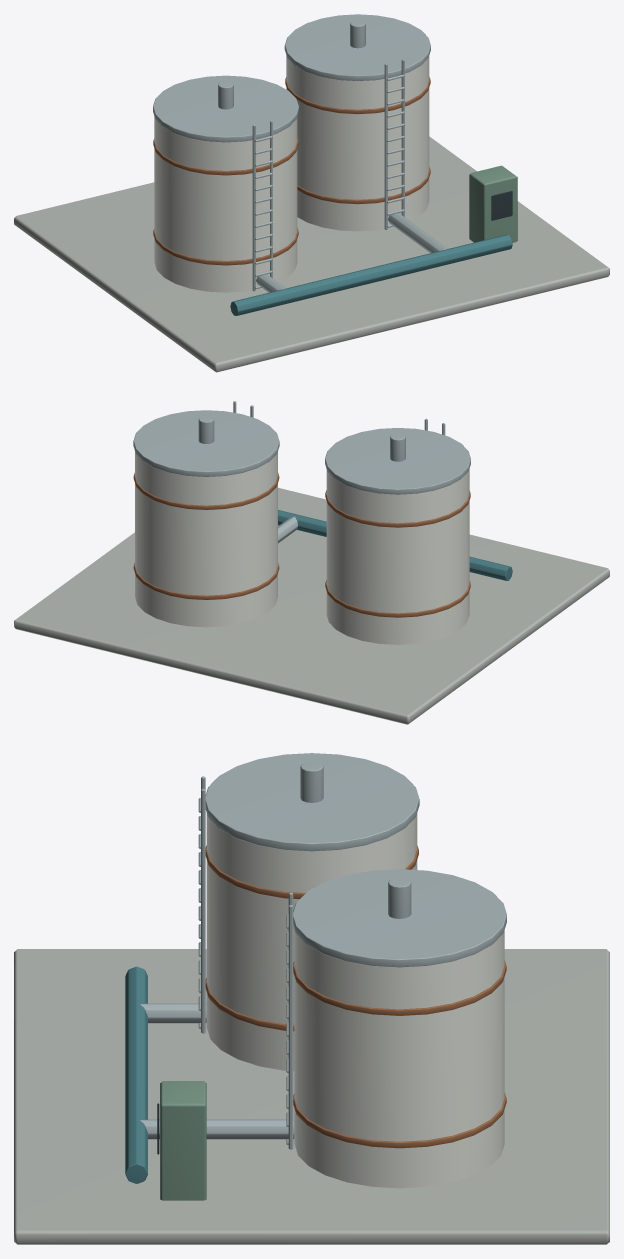
Rendered from PortUtilities.glb.
The picture shows the model from 3 angles, top to bottom: view 1: azimuth 30°, elevation 25°; view 2: azimuth 150°, elevation 25°; view 3: azimuth 270°, elevation 25°; orthographic projection. The views are drawn at different scales.
Parts seen in each view (by area): view 1: Utility plinth, Vertical water tank, Vertical water tank.001, Tank roof.001, Tank roof, Service manifold, Utility control cabinet, Tank drain.001, Weathered tank band.001, Weathered tank band, Weathered tank band.003, Weathered tank band.002 (+4 smaller); view 2: Utility plinth, Vertical water tank, Vertical water tank.001, Tank roof.001, Tank roof, Service manifold, Weathered tank band, Weathered tank band.001, Weathered tank band.003, Weathered tank band.002, Roof vent.001; view 3: Utility plinth, Vertical water tank.001, Vertical water tank, Tank roof, Tank roof.001, Utility control cabinet, Service manifold, Tank drain.001, Weathered tank band.002, Weathered tank band.003, Tank ladder.003, Tank ladder.001 (+5 smaller).
Boxes of the visible parts, box(x1,y1,x2,y2) form: Utility plinth: box(14, 136, 609, 372); Vertical water tank: box(154, 117, 297, 292); Vertical water tank.001: box(286, 56, 429, 231); Tank roof.001: box(284, 14, 430, 81); Tank roof: box(153, 75, 298, 142); Service manifold: box(230, 234, 512, 315); Utility control cabinet: box(469, 165, 517, 242); Tank drain.001: box(388, 213, 447, 253); Weathered tank band.001: box(153, 138, 298, 175); Weathered tank band: box(153, 228, 298, 265); Weathered tank band.003: box(285, 77, 430, 114); Weathered tank band.002: box(297, 167, 430, 204); Utility plinth: box(14, 487, 609, 724); Vertical water tank: box(326, 469, 469, 644); Vertical water tank.001: box(135, 452, 277, 627); Tank roof.001: box(133, 410, 279, 476); Tank roof: box(325, 428, 470, 494); Service manifold: box(278, 510, 512, 580); Weathered tank band: box(325, 580, 470, 617); Weathered tank band.001: box(325, 490, 470, 527); Weathered tank band.003: box(133, 473, 279, 509); Weathered tank band.002: box(133, 563, 279, 599); Roof vent.001: box(198, 416, 214, 443); Utility plinth: box(14, 949, 609, 1244); Vertical water tank.001: box(294, 929, 504, 1188); Vertical water tank: box(206, 813, 417, 1071); Tank roof: box(205, 753, 419, 851); Tank roof.001: box(293, 869, 506, 967); Utility control cabinet: box(160, 1081, 206, 1200); Service manifold: box(125, 966, 147, 1183); Tank drain.001: box(140, 1119, 294, 1139); Weathered tank band.002: box(293, 1093, 506, 1148); Weathered tank band.003: box(293, 960, 506, 1015); Tank ladder.003: box(288, 905, 293, 1149); Tank ladder.001: box(201, 788, 205, 1033).
Size of the model in its own units: 11.5 by 5.23 by 10.2.
